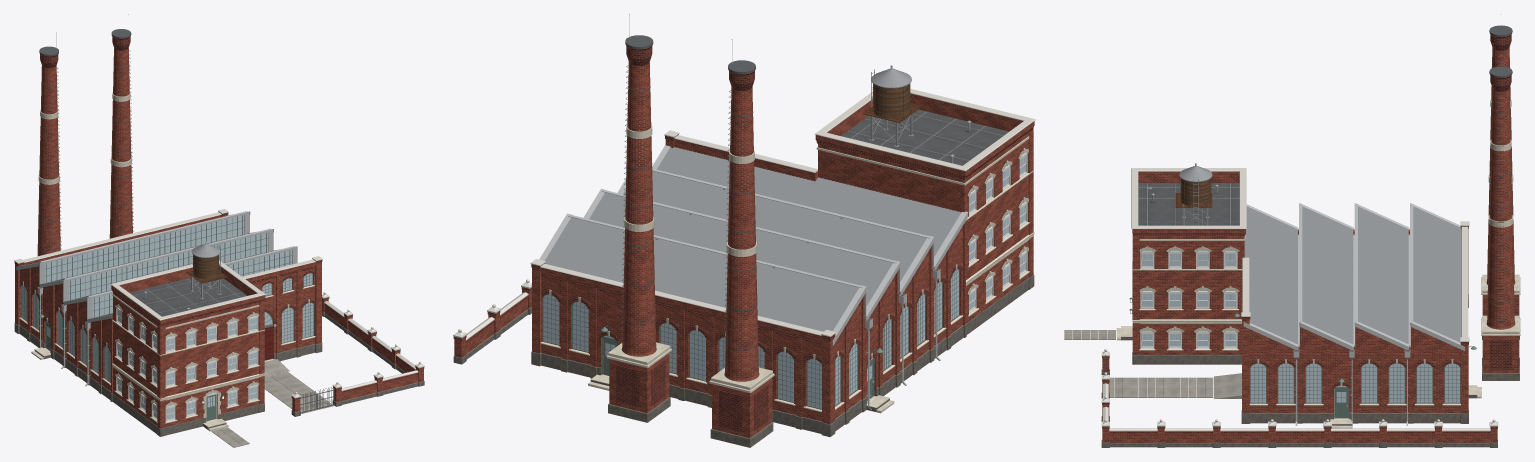
File: building_assembled.glb
3 views of the same model, side by side, from view 1: azimuth 30°, elevation 25°; view 2: azimuth 150°, elevation 25°; view 3: azimuth 270°, elevation 25° (orthographic). The views are drawn at different scales.
Parts seen in each view (by area): view 1: building_brick, building_glass, building_wframe, building_trim, building_zinc, building_plinth, building_coping, building_membrane, building_brick2, building_concrete, building_frame, building_iron (+3 smaller); view 2: building_brick, building_roofsheet, building_glass, building_brick2, building_plinth, building_zinc, building_trim, building_coping, building_membrane, building_wframe, building_iron, building_tank (+3 smaller); view 3: building_brick, building_roofsheet, building_glass, building_plinth, building_coping, building_zinc, building_trim, building_membrane, building_concrete, building_brick2, building_wframe, building_frame (+3 smaller).
Boxes of the visible parts, bbox=[...] form: building_brick: bbox=[15, 48, 423, 428]; building_glass: bbox=[21, 215, 313, 419]; building_wframe: bbox=[21, 215, 314, 382]; building_trim: bbox=[19, 92, 315, 431]; building_zinc: bbox=[16, 14, 297, 386]; building_plinth: bbox=[14, 311, 424, 436]; building_coping: bbox=[14, 209, 424, 398]; building_membrane: bbox=[129, 277, 246, 316]; building_brick2: bbox=[14, 36, 424, 400]; building_concrete: bbox=[211, 359, 333, 447]; building_frame: bbox=[116, 307, 258, 421]; building_iron: bbox=[37, 29, 334, 412]; building_brick: bbox=[454, 62, 1034, 438]; building_roofsheet: bbox=[545, 68, 961, 331]; building_glass: bbox=[543, 153, 1026, 408]; building_brick2: bbox=[453, 45, 1033, 431]; building_plinth: bbox=[453, 275, 1034, 447]; building_zinc: bbox=[539, 14, 967, 410]; building_trim: bbox=[540, 125, 1034, 413]; building_coping: bbox=[453, 88, 1035, 340]; building_membrane: bbox=[841, 109, 1008, 165]; building_wframe: bbox=[542, 269, 959, 409]; building_iron: bbox=[605, 35, 909, 364]; building_tank: bbox=[873, 83, 910, 118]; building_brick: bbox=[1102, 47, 1518, 442]; building_roofsheet: bbox=[1179, 166, 1461, 344]; building_glass: bbox=[1142, 250, 1459, 402]; building_plinth: bbox=[1101, 294, 1519, 447]; building_coping: bbox=[1101, 168, 1498, 431]; building_zinc: bbox=[1195, 14, 1501, 425]; building_trim: bbox=[1116, 99, 1520, 428]; building_membrane: bbox=[1138, 183, 1239, 225]; building_concrete: bbox=[1064, 330, 1334, 416]; building_brick2: bbox=[1102, 34, 1519, 433]; building_wframe: bbox=[1250, 364, 1460, 418]; building_frame: bbox=[1140, 250, 1237, 348].
Bounding box in the file's own units: 25.43 × 25.65 × 32.91.
30 materials, 12 textured.
